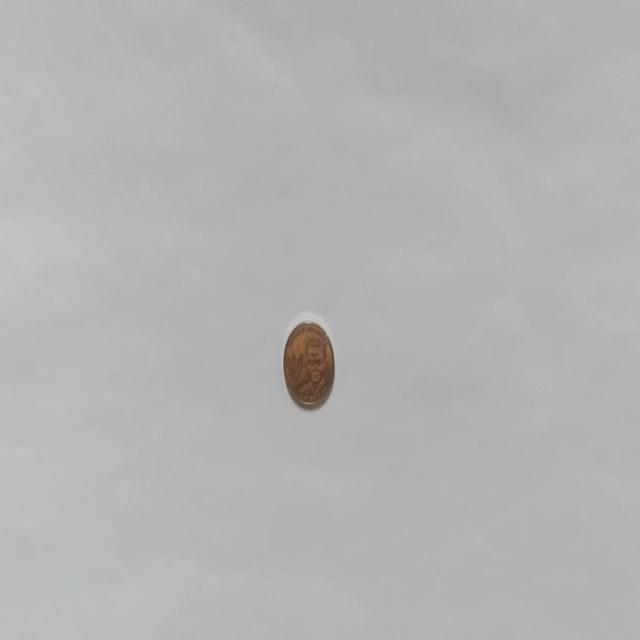seribu rupiah koin: (282, 314, 335, 410)
